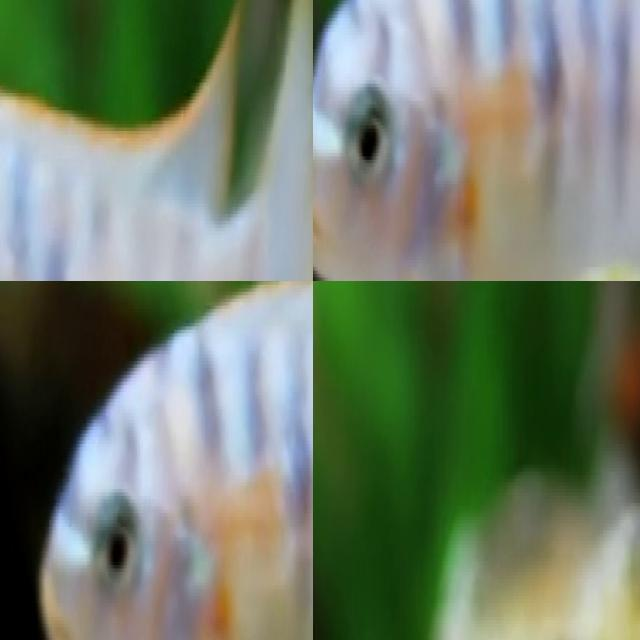fish: (29, 281, 313, 640), (313, 0, 640, 281), (0, 0, 313, 281), (581, 281, 640, 495)
